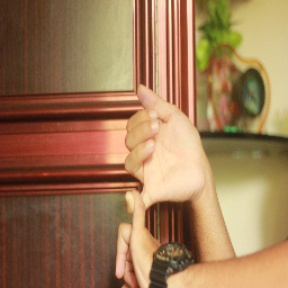S: (107, 81, 216, 287)
